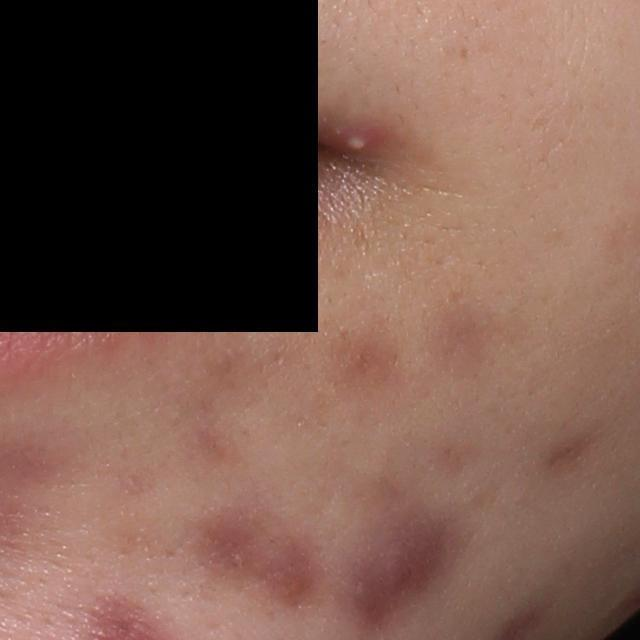pustule: (343, 130, 374, 153)
